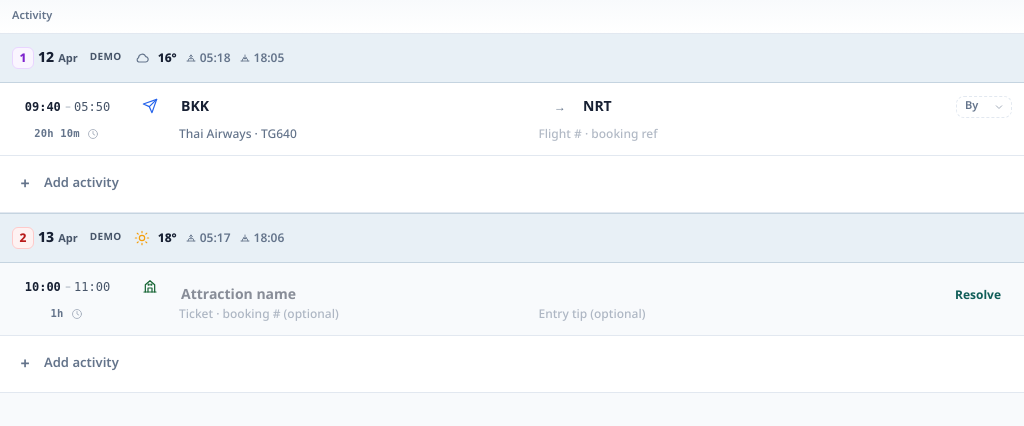
Test: SmartItineraryTable Quick-only add row › each day ends with collapsed + Add activity; click opens an inline draft row (no Smart/AI paste chrome)
This screenshot has width=1024, height=426.
Expected: the row with class "day-row" showing "1 12 Apr Demo 16° 05:18 18:05" is shown, [0,34,1023,82]
Expected: the 1st row with class "add-row" is shown, [0,156,1023,212]
Click the 1st button "Add activity".
click(81, 183)  # box [12,164,1012,204]
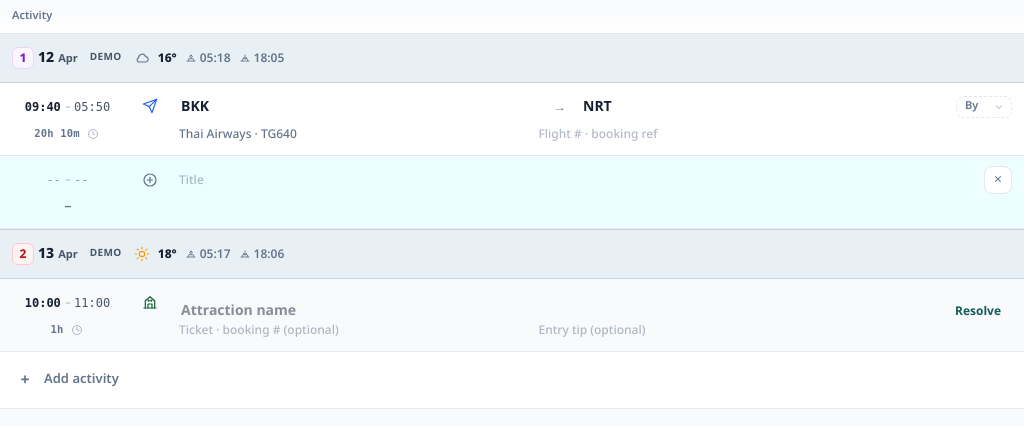
Expected: the element with class "stop-block" showing "– — ×" is shown, [12,166,1012,218]
